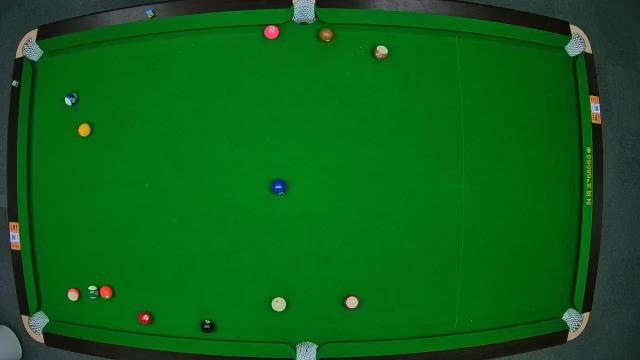bag1: (22, 40, 42, 60)
bag2: (294, 1, 318, 25)
bag3: (564, 34, 588, 56)
bag4: (29, 310, 49, 332)
bag5: (294, 340, 318, 360)
bag6: (563, 308, 583, 332)
ball0: (270, 296, 286, 312)
ball1: (78, 123, 92, 137)
ball10: (64, 91, 78, 107)
ball11: (344, 294, 360, 310)
ball12: (68, 286, 80, 302)
ball14: (88, 284, 100, 300)
ball15: (372, 44, 390, 60)
ball2: (271, 179, 287, 195)
ball3: (138, 312, 152, 326)
ball4: (264, 24, 280, 40)
ball5: (100, 286, 112, 300)
ball7: (320, 27, 334, 43)
ball8: (200, 319, 214, 333)
